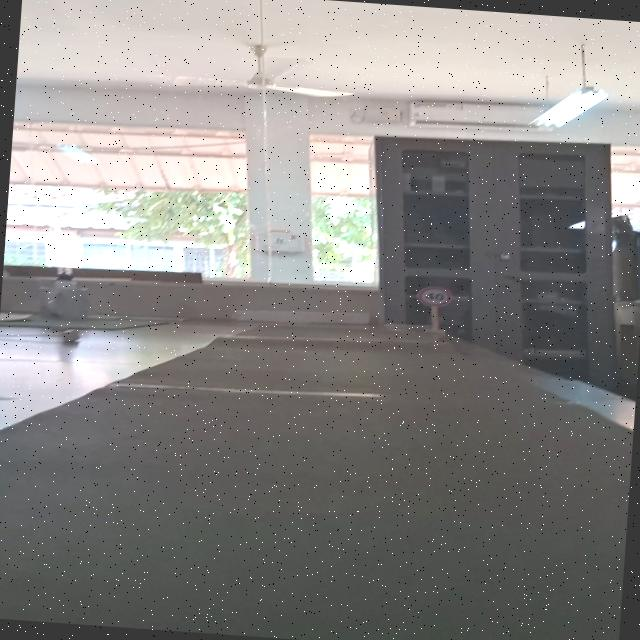Speed40: (413, 284, 454, 308)
